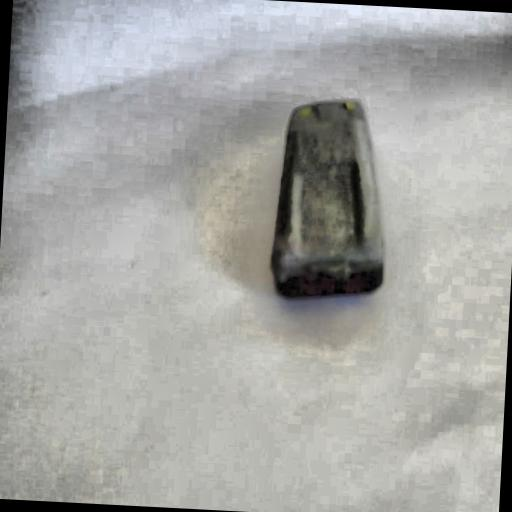normal_car: (258, 88, 400, 315)
